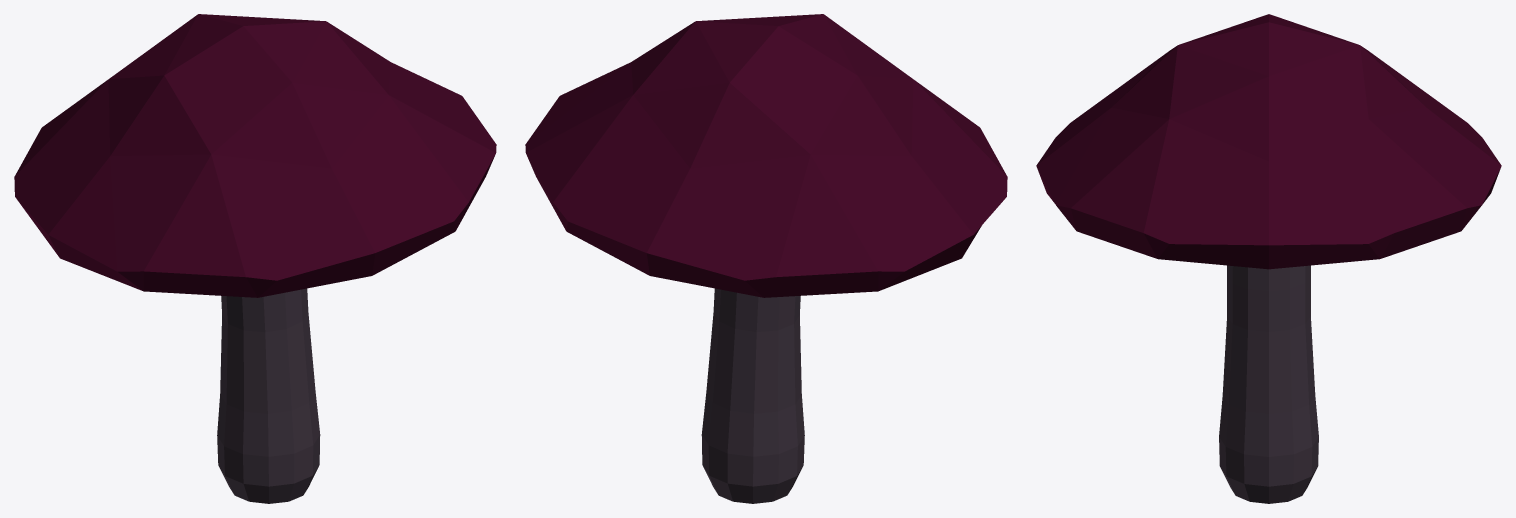
The model's file is Mushroom_02.fbx.
The picture shows the model from 3 angles, left to right: view 1: azimuth 30°, elevation 25°; view 2: azimuth 150°, elevation 25°; view 3: azimuth 270°, elevation 25°; orthographic projection. The views are drawn at different scales.
Visible parts, largest first — view 1: Mushroom_002; view 2: Mushroom_002; view 3: Mushroom_002.
Boxes of the visible parts, x1,y1,x2,y2 form: Mushroom_002: (14, 14, 496, 503); Mushroom_002: (525, 14, 1007, 503); Mushroom_002: (1036, 14, 1501, 503).
Size of the model in its own units: 10.02 by 10.81 by 10.06.
